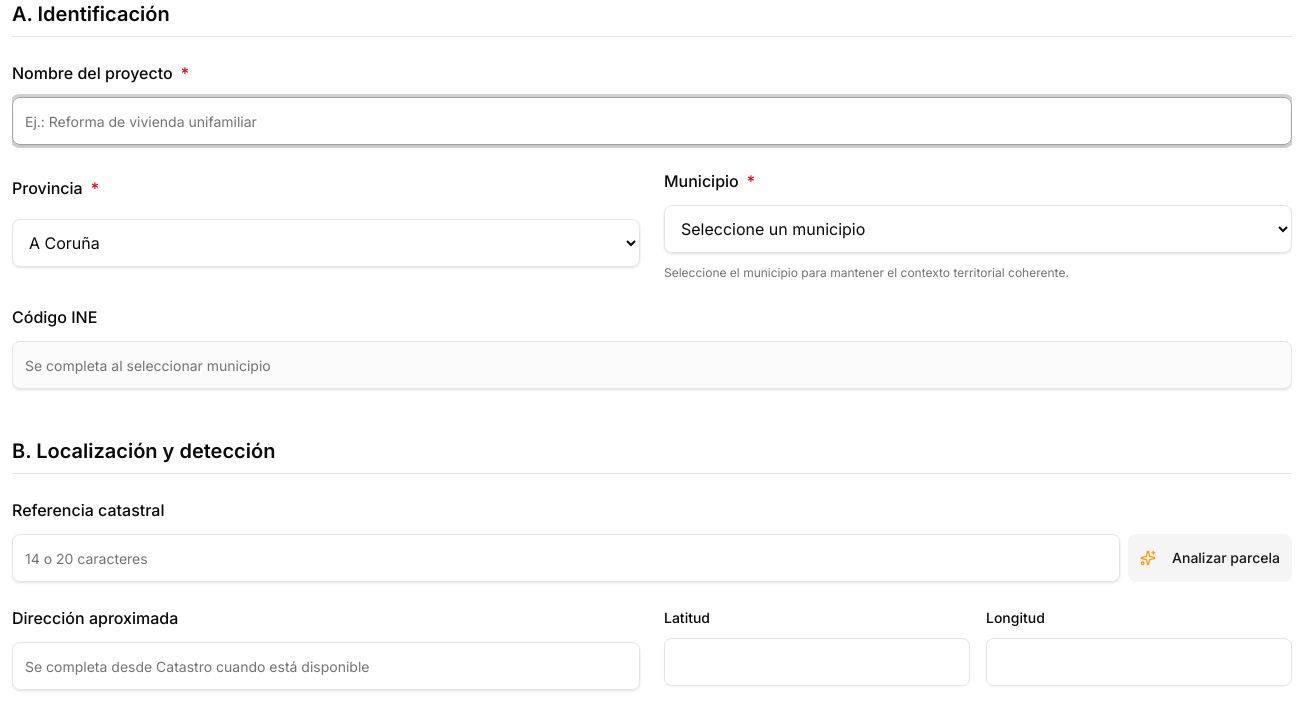
Test: ExpedienteForm › does not present an IDEG timeout as the absence of affects
Type "7709702NH4970N0001SZ" into the field labelled "Referencia catastral" at (566, 558), box x1=12 y1=534 x2=1120 y2=582
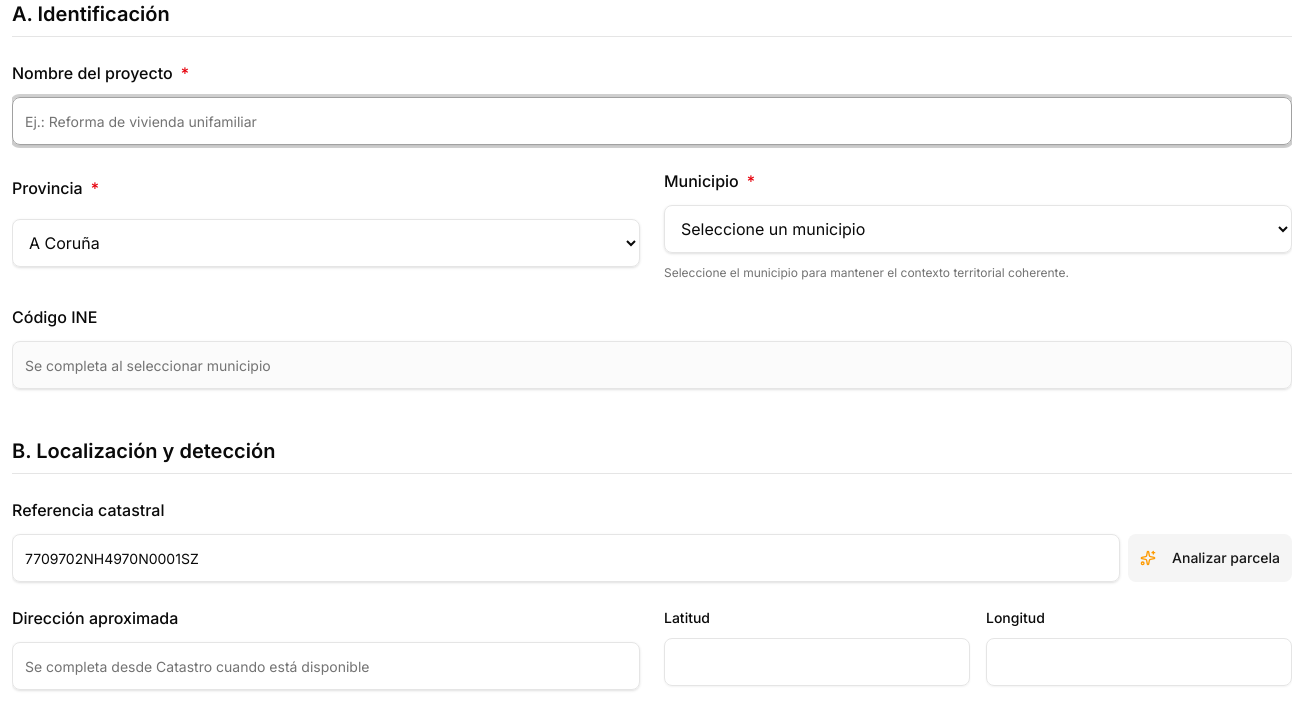
Click the button "Analizar parcela" at (1210, 558), box x1=1128 y1=534 x2=1292 y2=582
(page scrolled)
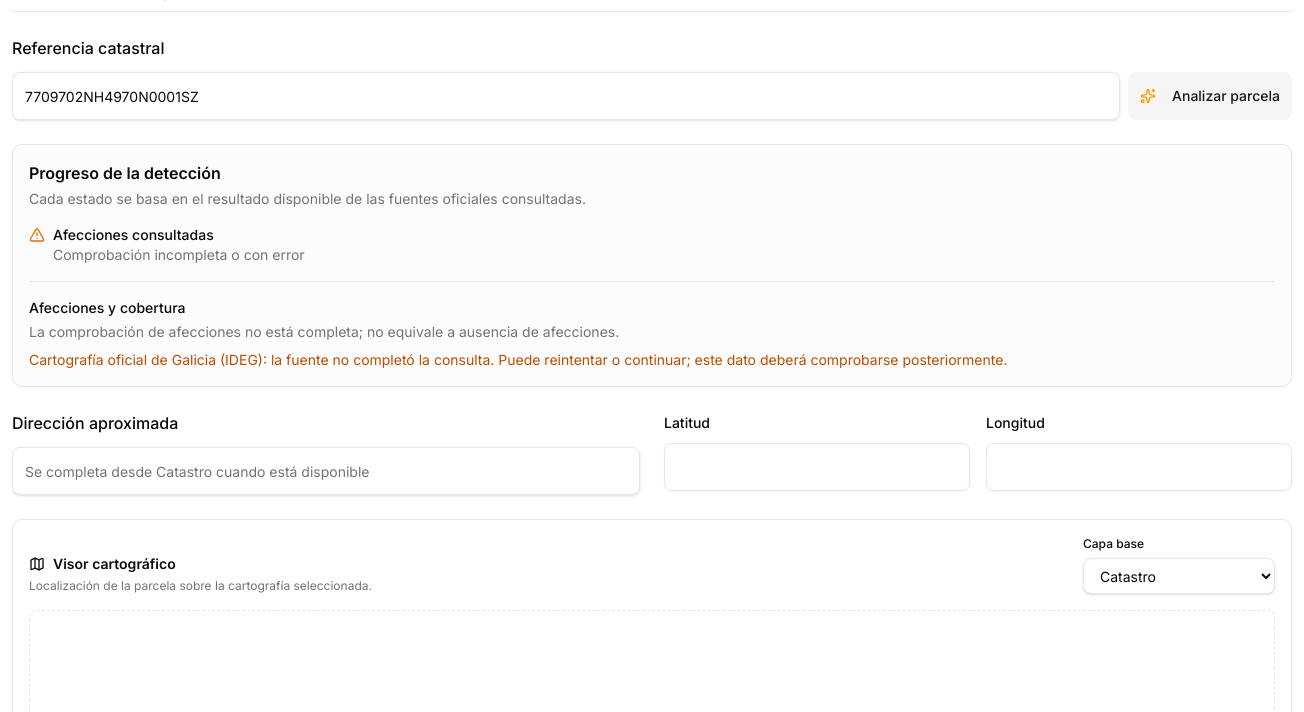
Now the text "no equivale a ausencia de afecciones" is shown, box x1=29 y1=323 x2=619 y2=340
Now the text "Cartografía oficial de Galicia" is shown, box x1=29 y1=351 x2=263 y2=368
